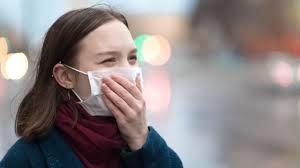Wearing Mask: (39, 10, 147, 127)
